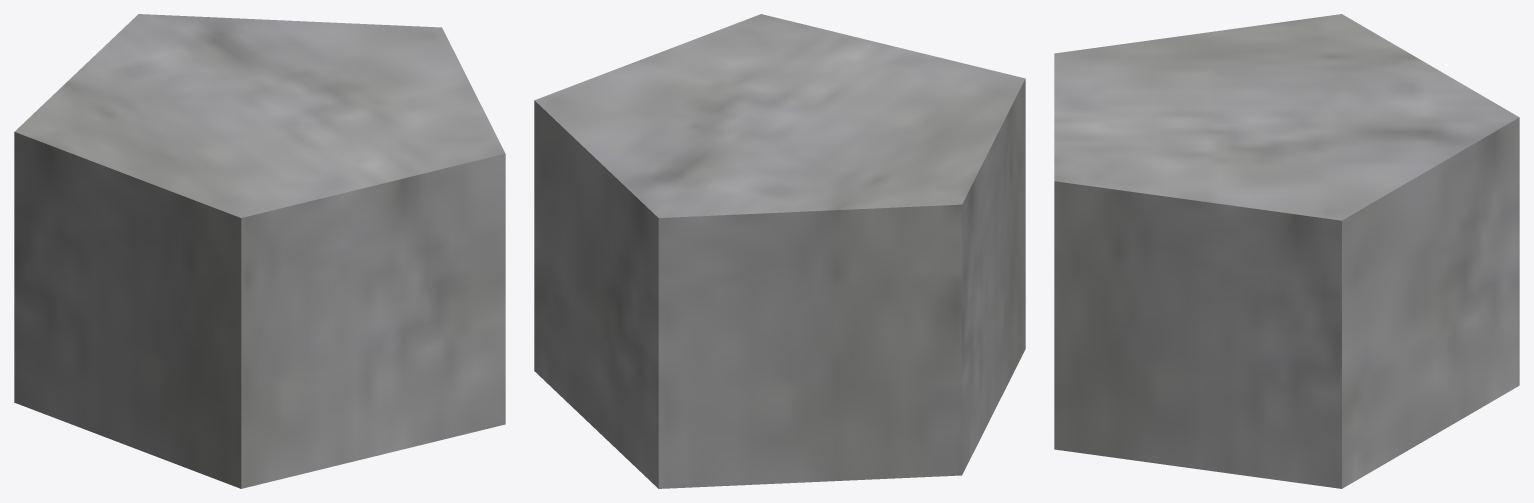
The model's file is Manija_Washbasin_09.glb.
3 renders of one model, left to right at view 1: azimuth 30°, elevation 25°; view 2: azimuth 150°, elevation 25°; view 3: azimuth 270°, elevation 25°, orthographic.
Parts seen in each view (by area): view 1: Manija_Washbasin_09; view 2: Manija_Washbasin_09; view 3: Manija_Washbasin_09.
Boxes of the visible parts, x1,y1,x2,y2 form: Manija_Washbasin_09: (14,14,505,488); Manija_Washbasin_09: (534,14,1025,488); Manija_Washbasin_09: (1054,14,1519,488).
Bounding box in the file's own units: 0.0409 × 0.0248 × 0.0389.
Materials: 1 (1 with a texture image).
